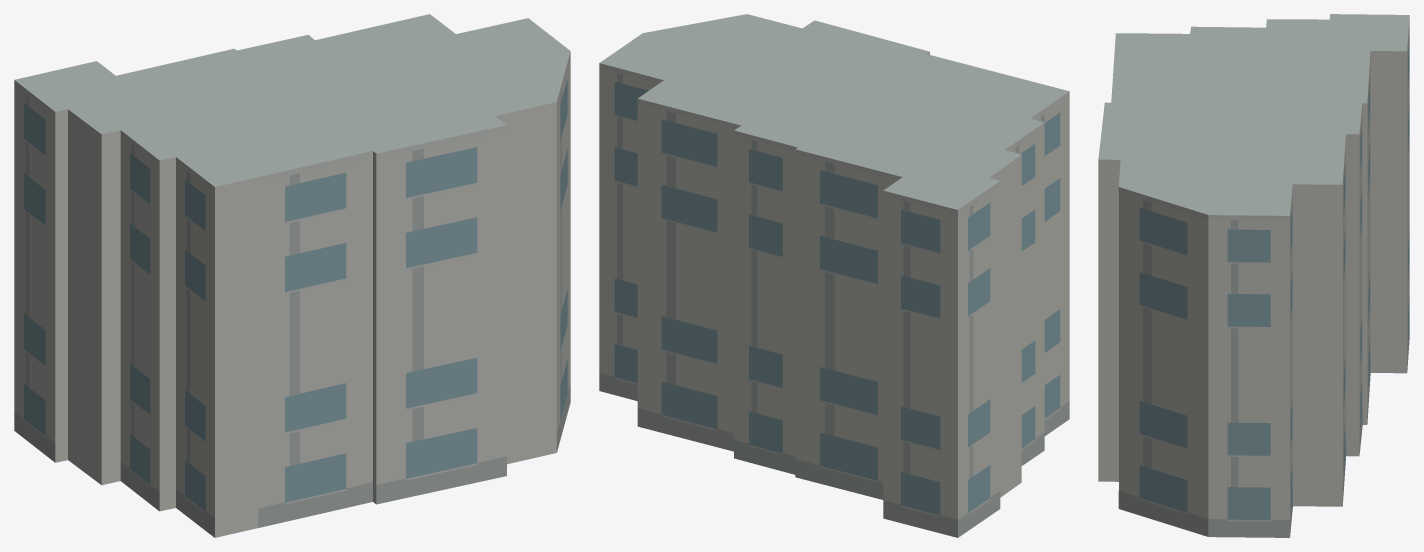
The model's file is survey-upis-32580323.glb.
The picture shows the model from 3 angles, left to right: view 1: azimuth 30°, elevation 25°; view 2: azimuth 150°, elevation 25°; view 3: azimuth 270°, elevation 25°; orthographic projection. The views are drawn at different scales.
Parts seen in each view (by area): view 1: survey-upis-32580323.tmp; view 2: survey-upis-32580323.tmp; view 3: survey-upis-32580323.tmp.
Boxes of the visible parts, x1,y1,x2,y2 form: survey-upis-32580323.tmp: (14, 14, 570, 537); survey-upis-32580323.tmp: (599, 14, 1069, 537); survey-upis-32580323.tmp: (1098, 14, 1409, 537).
Bounding box in the file's own units: 20.99 × 15.6 × 13.68.
